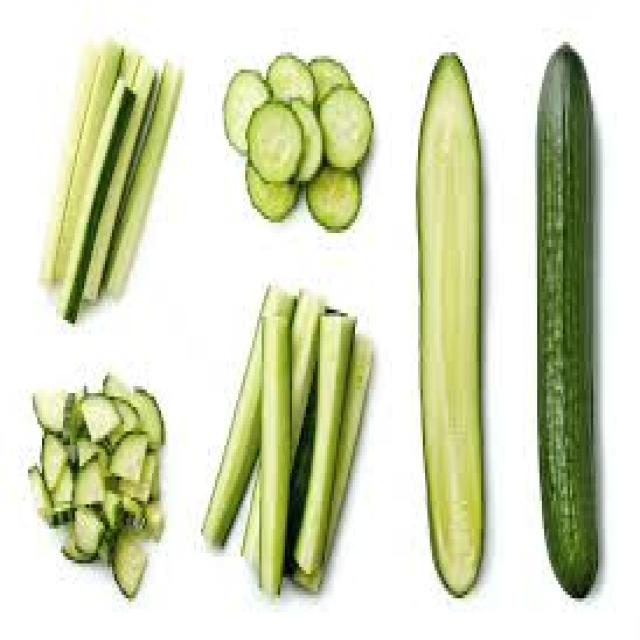Pickle: (202, 287, 322, 593), (419, 54, 484, 595), (538, 45, 598, 597), (41, 45, 120, 280), (59, 78, 135, 321), (105, 61, 182, 297), (294, 311, 355, 578), (260, 287, 295, 593), (319, 87, 371, 168), (249, 102, 301, 181), (224, 71, 270, 152), (308, 166, 360, 230), (248, 164, 299, 221), (291, 99, 322, 181), (269, 56, 315, 105), (112, 531, 146, 597), (110, 434, 148, 483), (81, 395, 120, 442), (311, 58, 352, 101), (42, 434, 69, 490), (75, 506, 105, 556), (32, 391, 64, 433), (78, 460, 104, 507)
